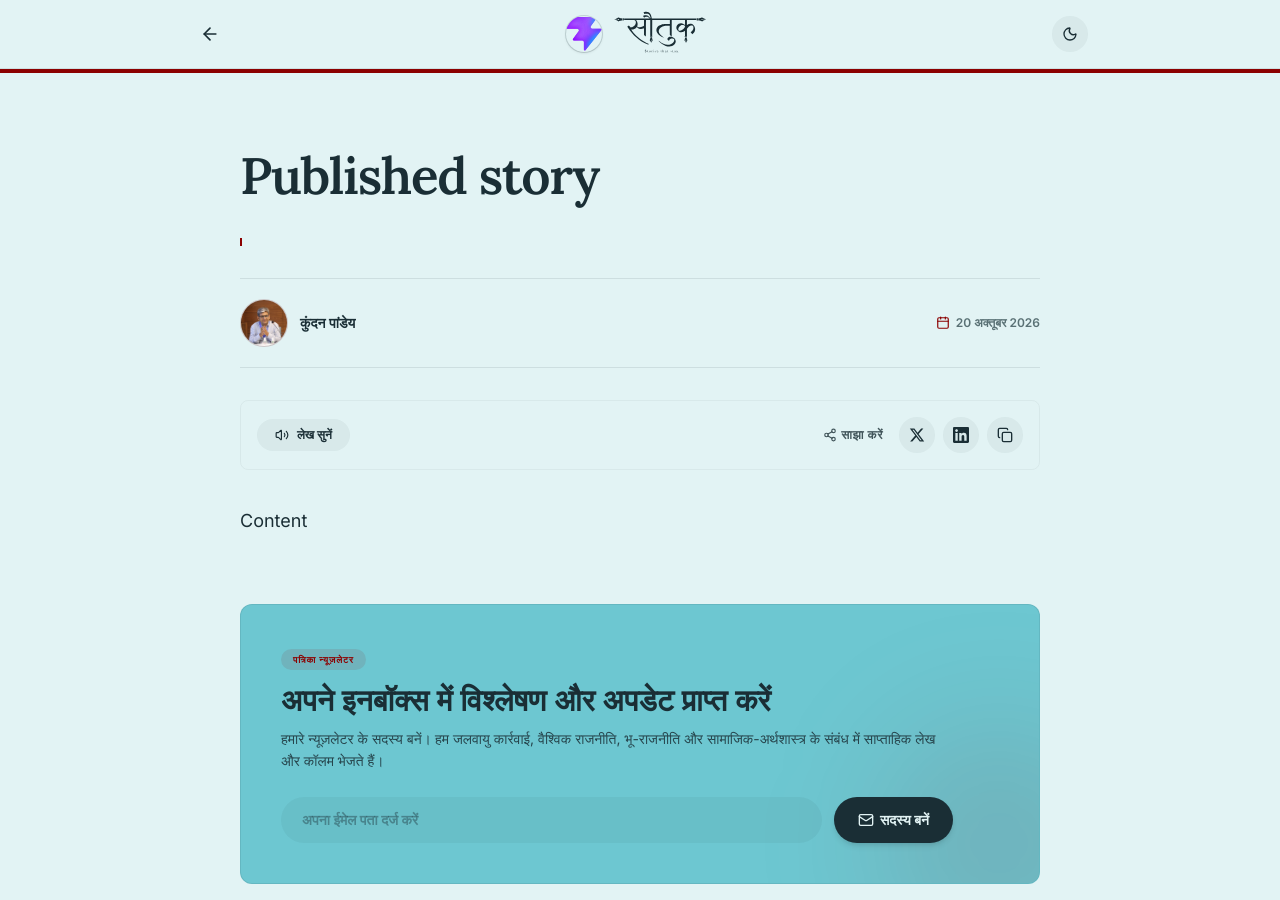
Test case: reports clipboard denial instead of claiming the link was copied
The width and height of the screenshot is (1280, 900).
Click the button titled "लिंक कॉपी करें": (1005, 435) x1=987 y1=417 x2=1023 y2=453
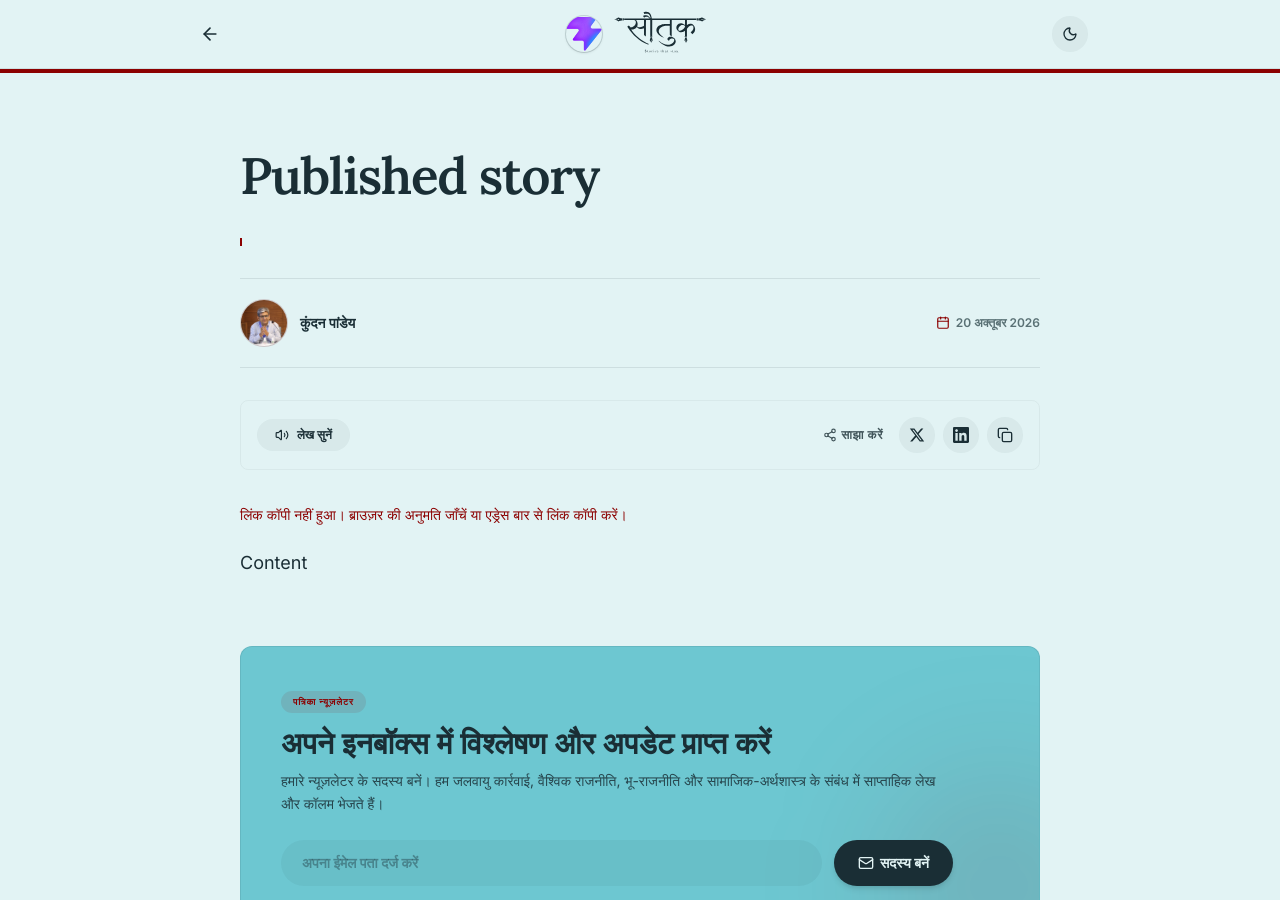
Result: the message shows "लिंक कॉपी नहीं हुआ" at x1=240 y1=506 x2=627 y2=523
